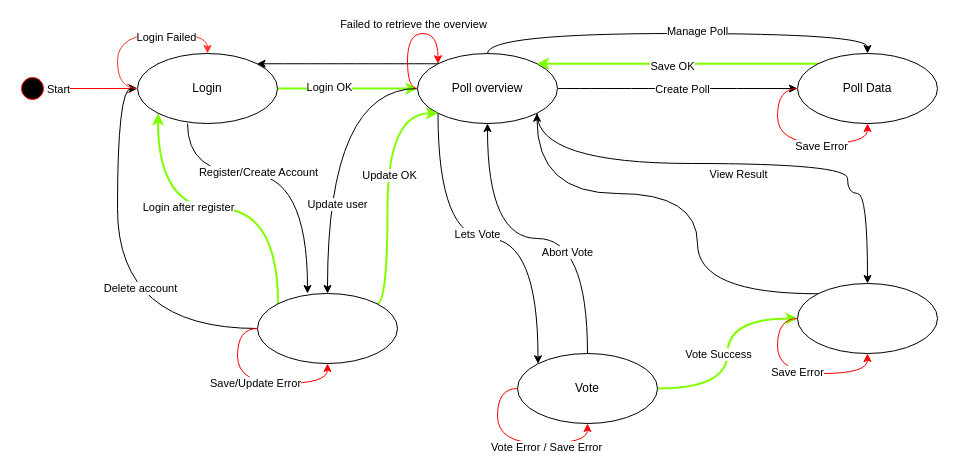
Some shapes in this 955 by 470 pixel diagram are drawn without their labels. Each missing label, with the box of its shape:
Result: (796, 282, 938, 354)
User data: (256, 292, 398, 364)
